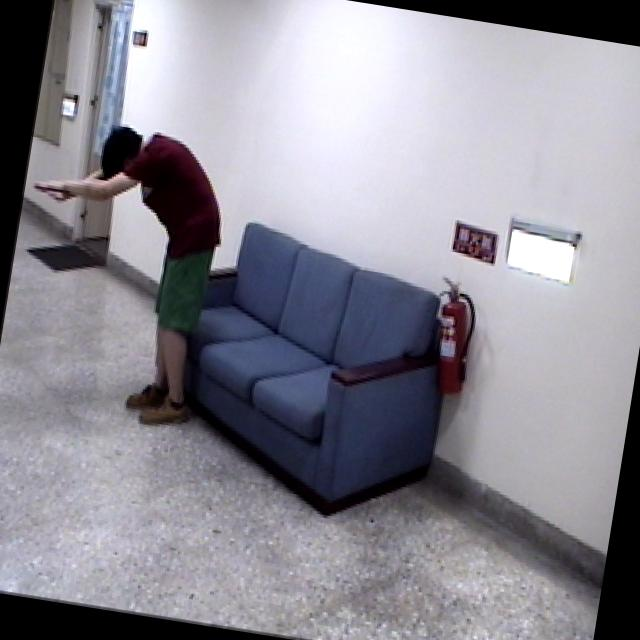bend: (0, 109, 249, 446)
